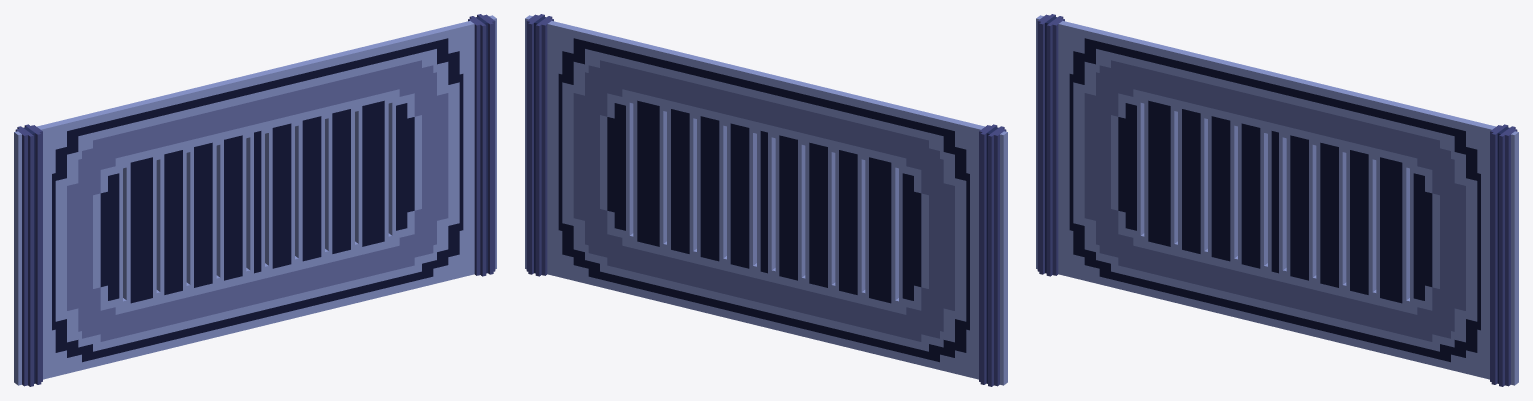
File: wall cent 2.obj
3 renders of one model, left to right at view 1: azimuth 30°, elevation 25°; view 2: azimuth 150°, elevation 25°; view 3: azimuth 330°, elevation 25°, orthographic.
Bounding box in the file's own units: 12.8 × 6.4 × 0.6.
Materials: 1 (1 with a texture image).
